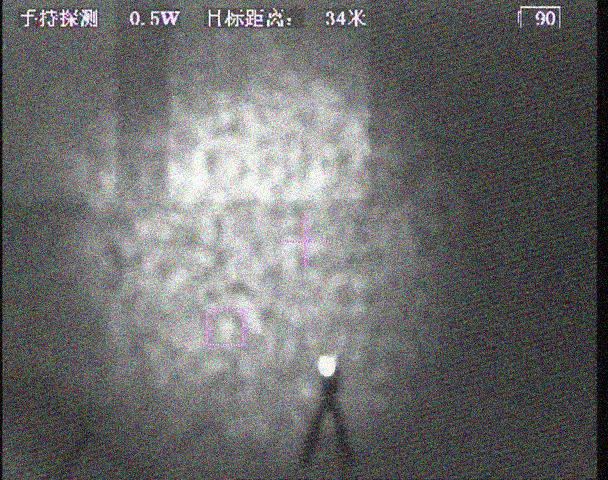my: (316, 353, 340, 379)
